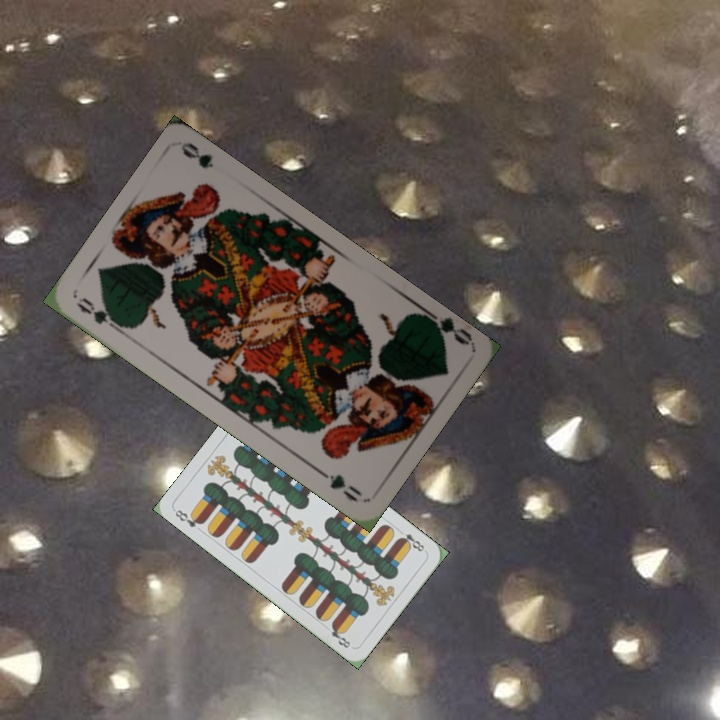E8: (394, 525, 429, 555), (171, 505, 206, 530)
GO: (418, 305, 474, 348), (72, 293, 127, 336)
